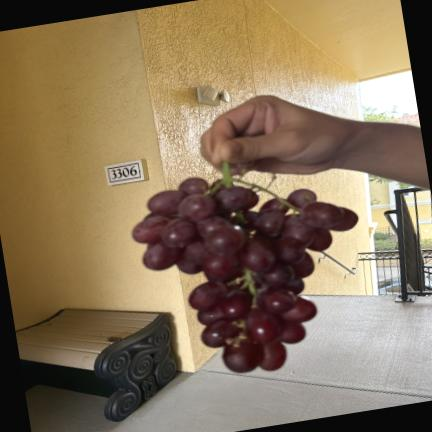grape_cluster: (133, 164, 358, 372)
